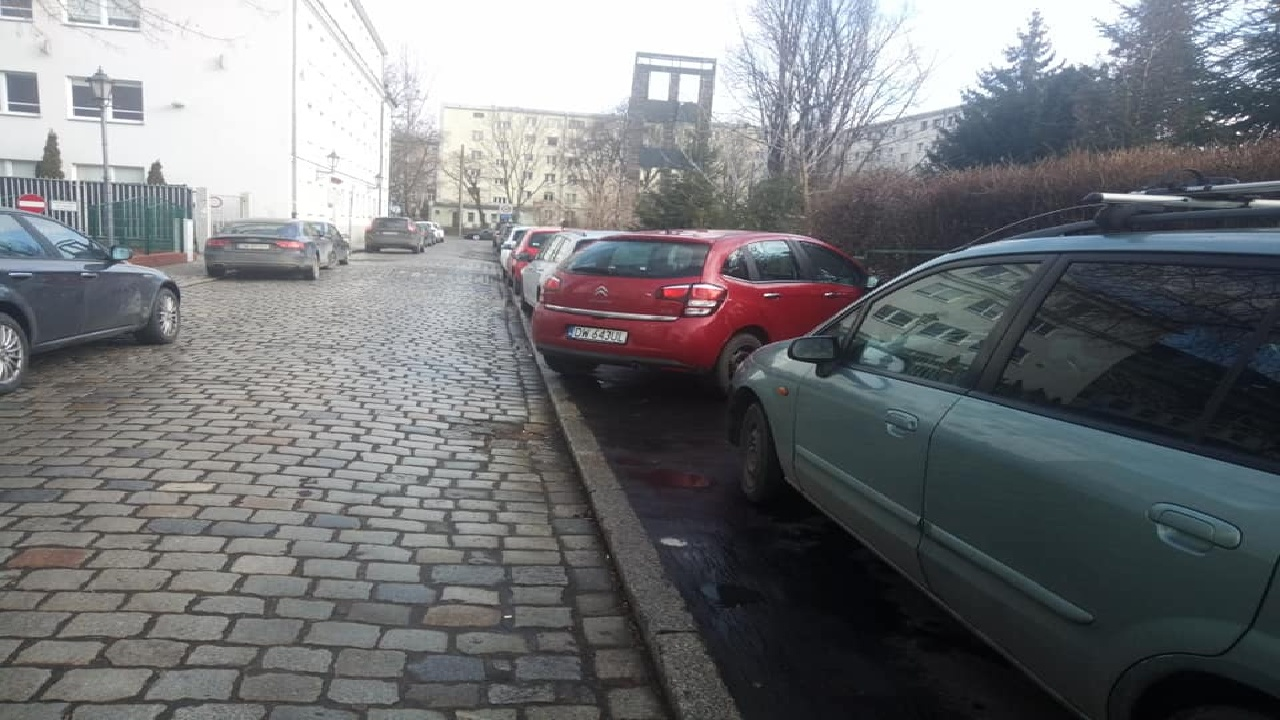B2: (18, 193, 45, 213)
